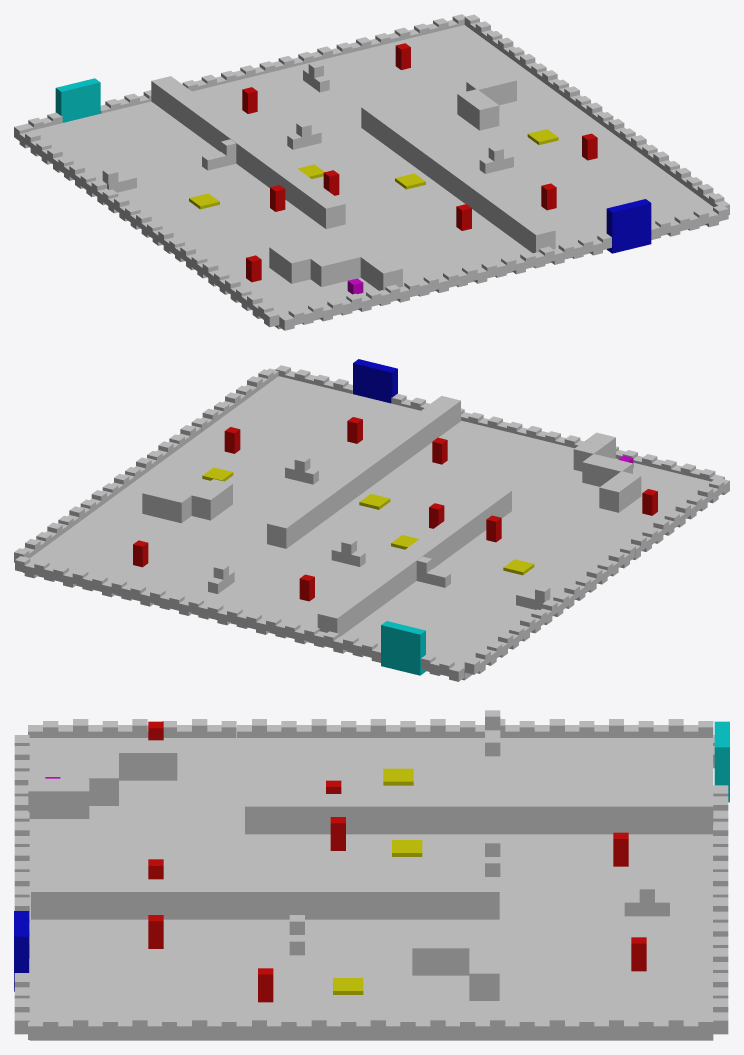
File: level1_b9_45.fbx
3 views of the same model, one above another, from view 1: azimuth 30°, elevation 25°; view 2: azimuth 150°, elevation 25°; view 3: azimuth 270°, elevation 25° (orthographic). The views are drawn at different scales.
Parts seen in each view (by area): view 1: pCube237, pCube261, pCube262; view 2: pCube237, pCube262, pCube261; view 3: pCube237, pCube262, pCube261, pCube267, pCube268, pCube264, pCube248, pCube263, pCube266.
Boxes of the visible parts, left/top/right/bottom form: pCube237: left=14, top=14, right=729, bottom=330; pCube261: left=606, top=199, right=651, bottom=253; pCube262: left=55, top=78, right=100, bottom=122; pCube237: left=14, top=365, right=729, bottom=681; pCube262: left=381, top=621, right=425, bottom=675; pCube261: left=353, top=359, right=397, bottom=403; pCube237: left=14, top=710, right=728, bottom=1040; pCube262: left=714, top=721, right=729, bottom=802; pCube261: left=14, top=911, right=29, bottom=991; pCube267: left=613, top=832, right=628, bottom=866; pCube268: left=631, top=937, right=646, bottom=971; pCube264: left=258, top=968, right=273, bottom=1002; pCube248: left=383, top=768, right=413, bottom=785; pCube263: left=148, top=915, right=163, bottom=948; pCube266: left=330, top=817, right=345, bottom=850.
Bounding box in the file's own units: 18.47 × 1.85 × 18.56.
